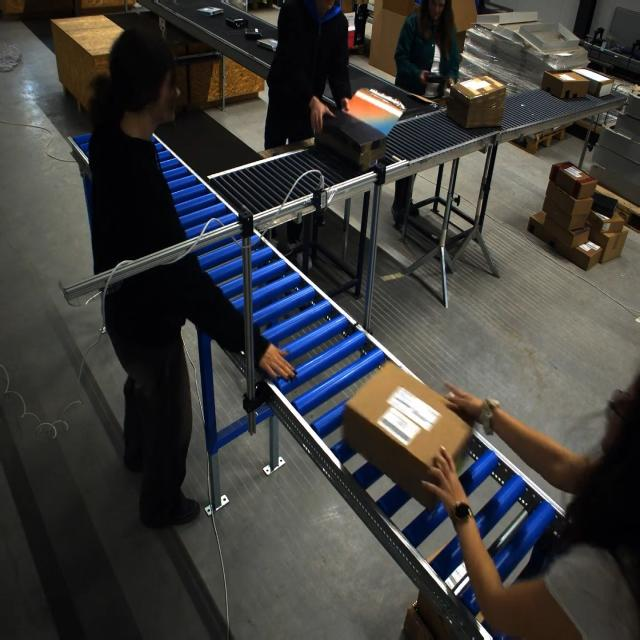box: (340, 363, 459, 486), (317, 101, 380, 173), (447, 73, 507, 129), (519, 21, 582, 55)
product: (196, 6, 224, 16), (256, 38, 277, 51), (225, 17, 247, 28), (244, 28, 263, 40)
